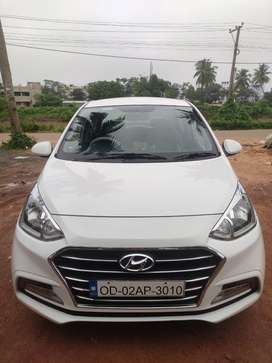OD02AP3010: (89, 279, 184, 297)
